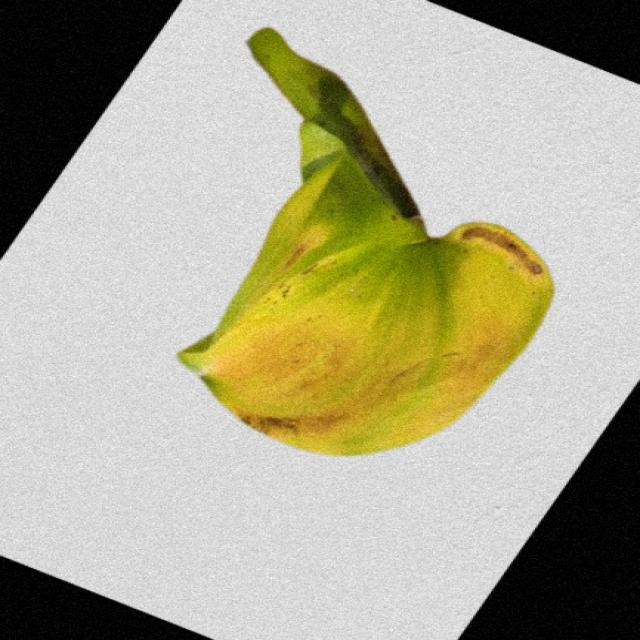daun berpenyakit kuning: (178, 29, 553, 454)
